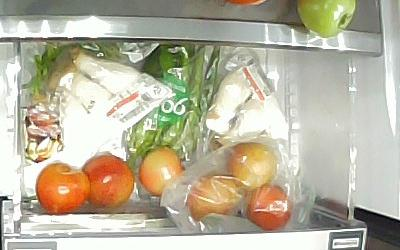prune: (34, 161, 91, 214), (80, 153, 134, 208), (137, 145, 186, 197)
prune_vinyl: (186, 171, 246, 223), (223, 141, 276, 190), (241, 182, 293, 229)
